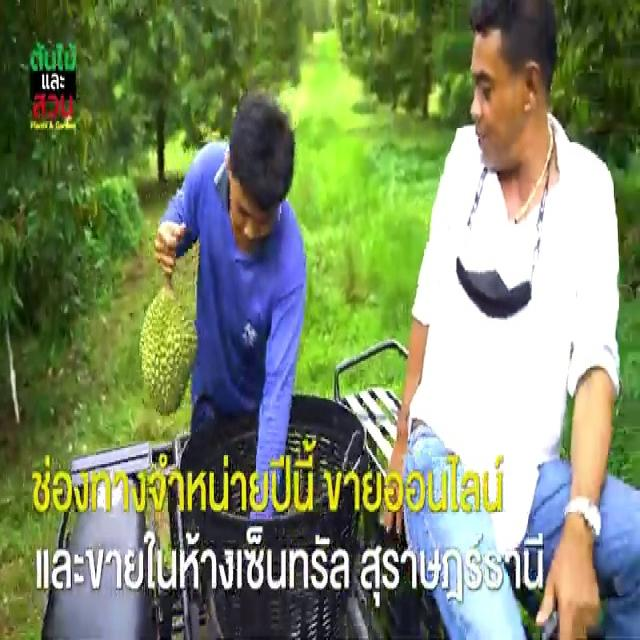durian: (137, 282, 201, 420)
